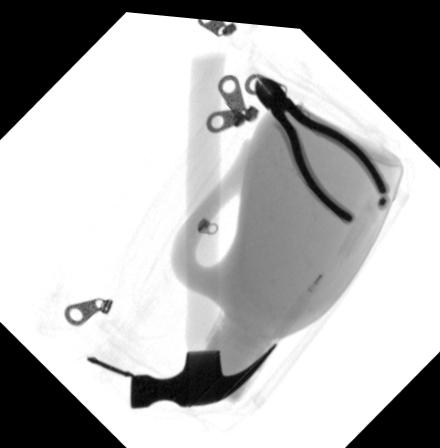Hammer: (129, 48, 275, 406)
Pliers: (253, 70, 389, 216)
